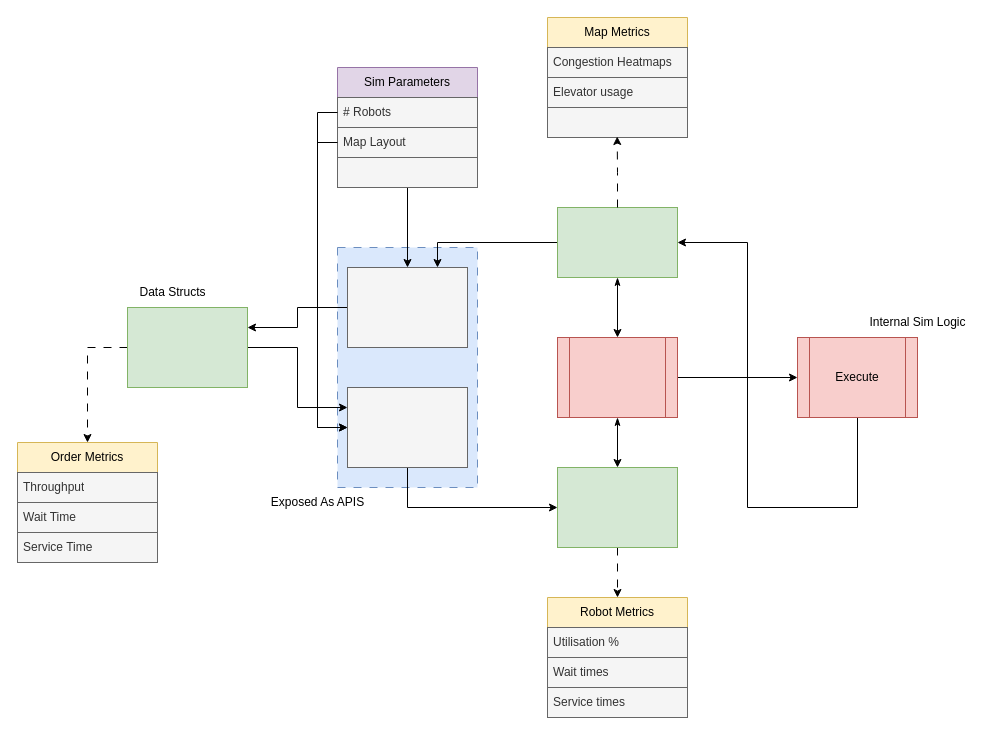
This 995x735 diagram has some shape labels left out. The shapes that lost their labels are listed below. From the top down, each one's centre as x and y in pixels, then its label:
At (x=617, y=122): "Robot highways".
At (x=407, y=172): "# Orders".
At (x=617, y=242): "Occupancy Grid".
At (x=407, y=307): "Order Picker Algorithm".
At (x=187, y=347): "Order Tracker".
At (x=617, y=377): "Path Planning".
At (x=407, y=427): "Scheduling Algorithm".
At (x=617, y=507): "Schedules".
